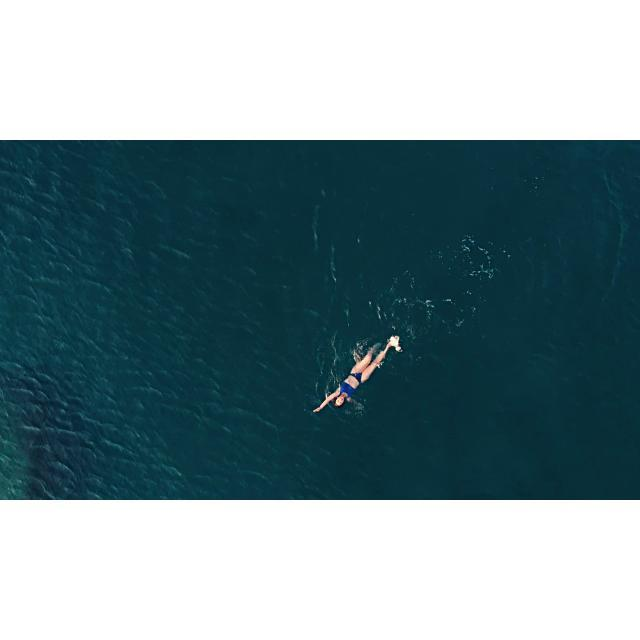human: (312, 334, 403, 414)
